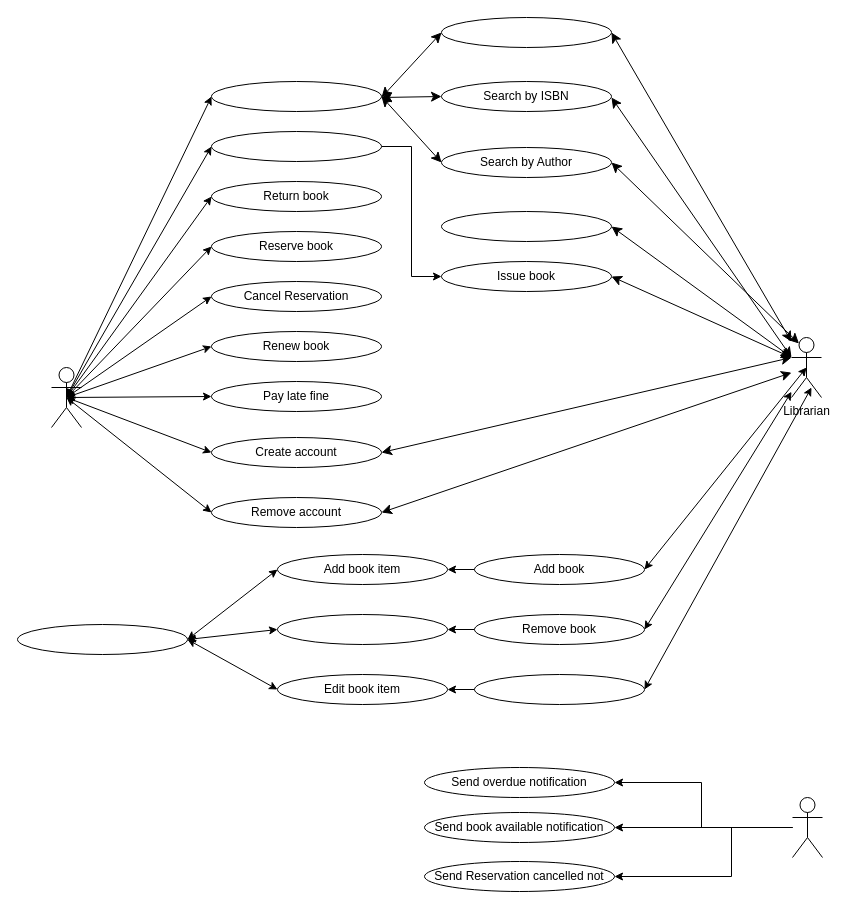
The diagram is 847 pixels wide and 909 high, and some of its shapes have lost their labels. Each missing label, with the box of its shape:
Borrow book: (210, 130, 382, 162)
Edit book: (474, 674, 644, 704)
Issue library card: (440, 210, 612, 242)
Member: (50, 366, 82, 428)
Remove book item: (276, 614, 448, 644)
Search book: (210, 80, 382, 112)
Search by Title: (440, 16, 612, 48)
System: (792, 796, 822, 858)
Update catalog: (16, 624, 188, 654)
